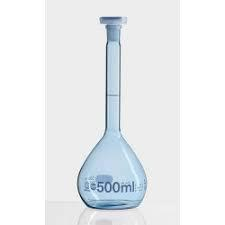Volumetric flask: (69, 10, 147, 211)
